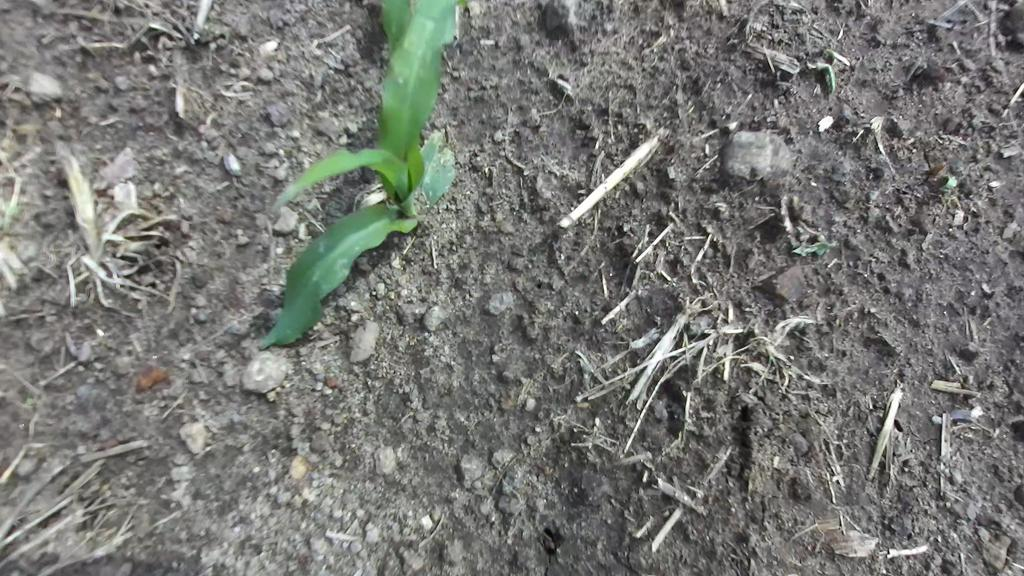BroWeed: (802, 49, 847, 94), (130, 361, 172, 396), (930, 166, 961, 197), (816, 48, 852, 68), (794, 241, 836, 257), (951, 195, 965, 226), (941, 191, 958, 216), (792, 225, 812, 243), (784, 234, 802, 250)
Maize: (369, 0, 413, 58)
